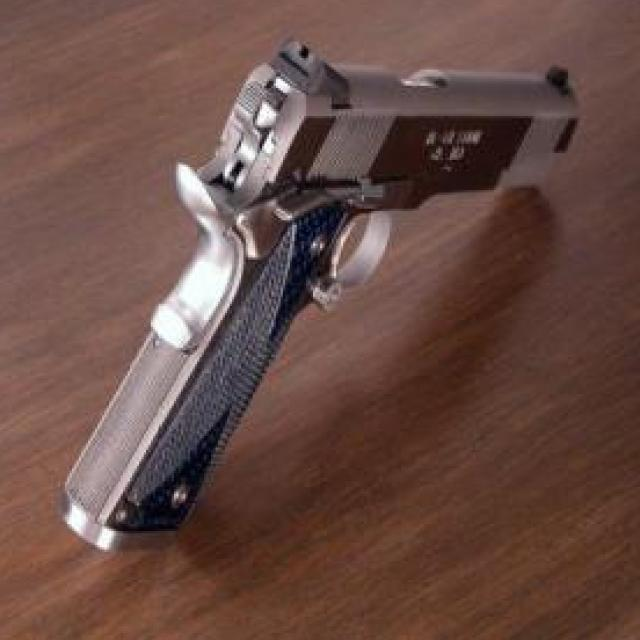pistol: (60, 35, 582, 563)
